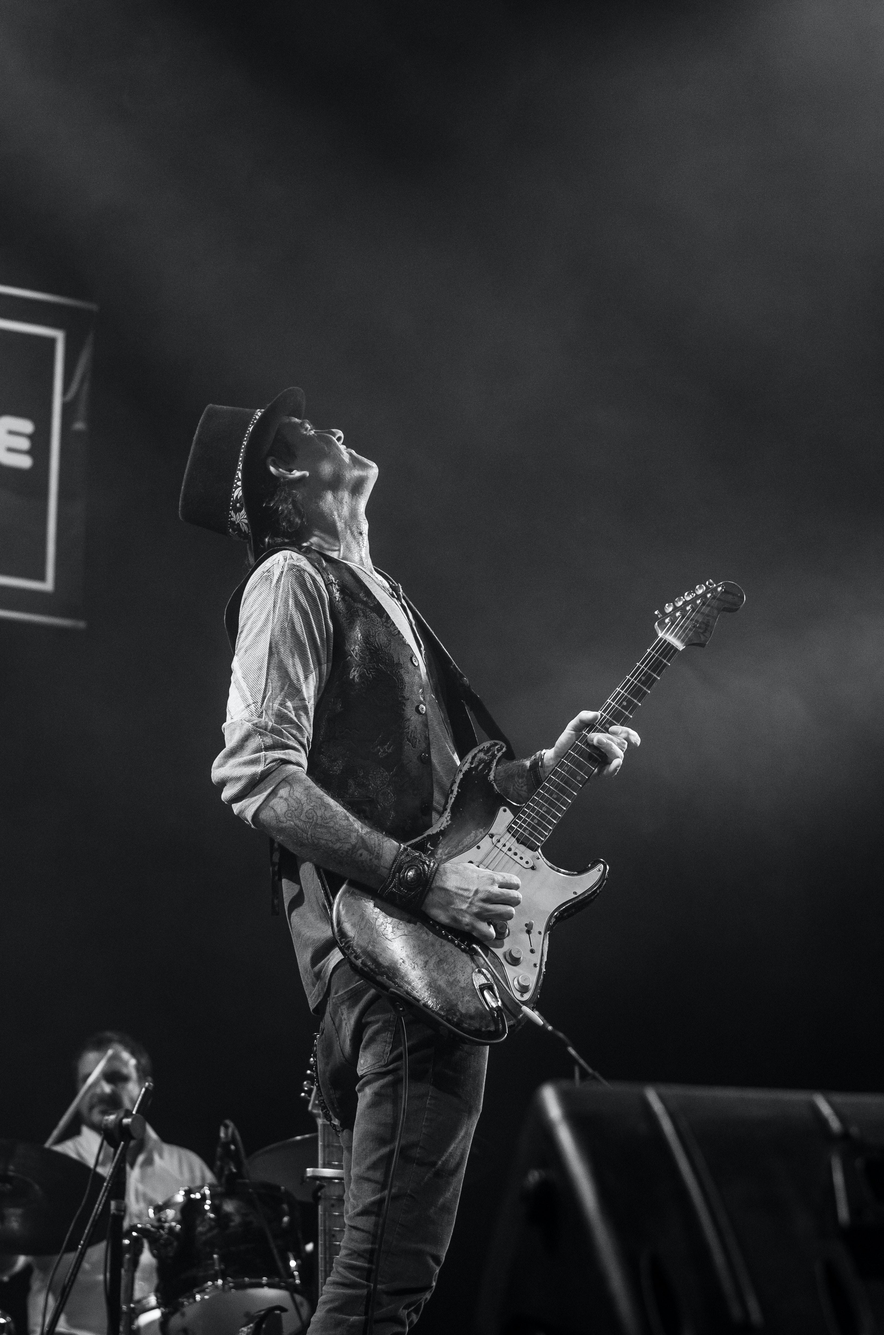acousticguitar: (333, 581, 749, 1043)
